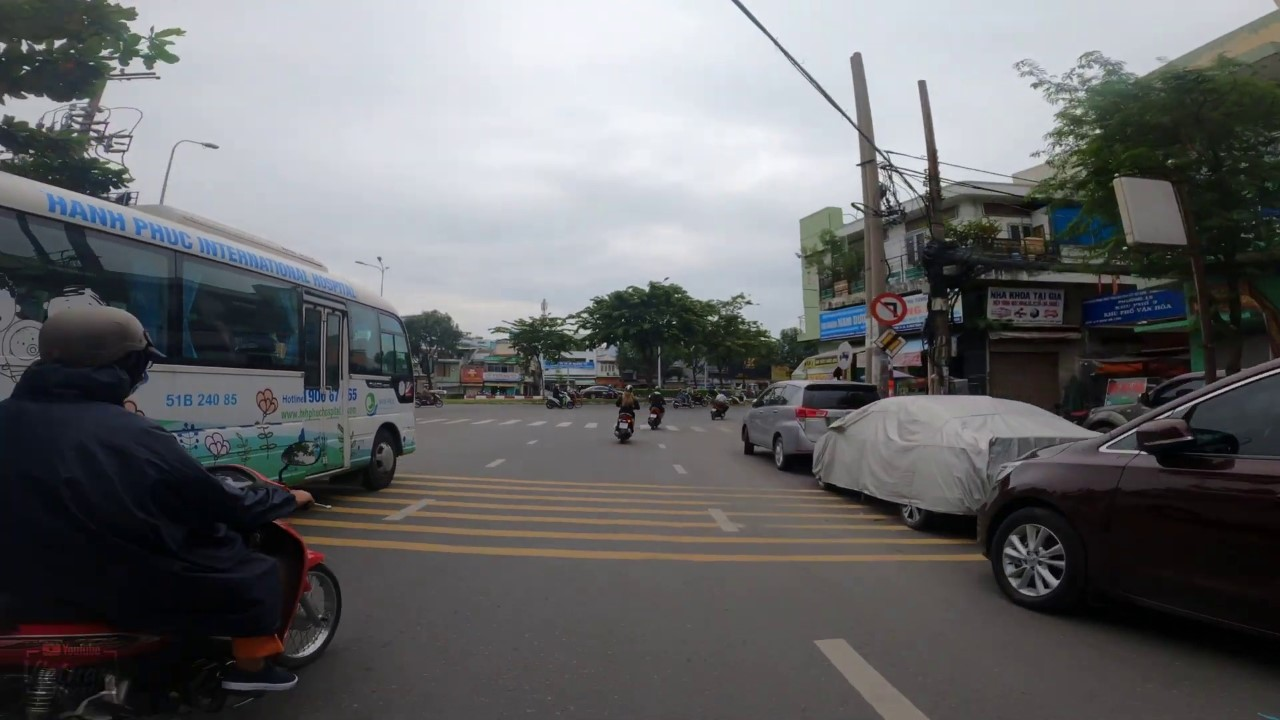cam_re_trai: (870, 292, 908, 326)
